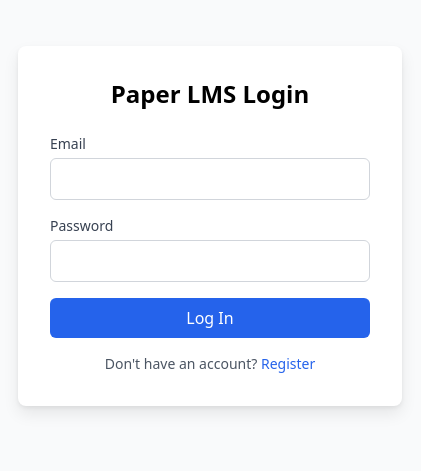
it: LoginPage › error clears when toggling between login and register
This screenshot has width=421, height=471.
Type "bad@example.com" into the field at (210, 179), box [50,158,370,200]
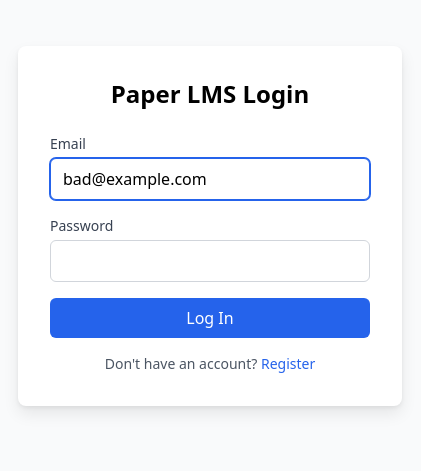
Type "wrong" into the password field at (210, 261), box [50,240,370,282]
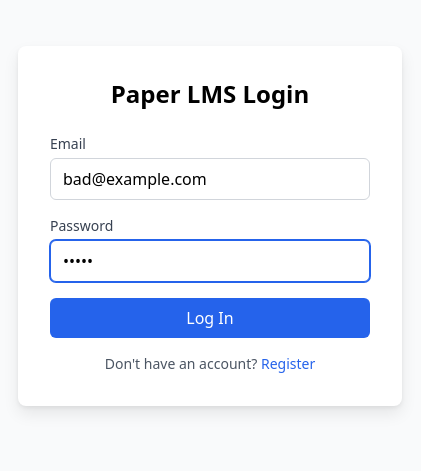
Click the button "Log In" at (210, 318), box [50,298,370,338]
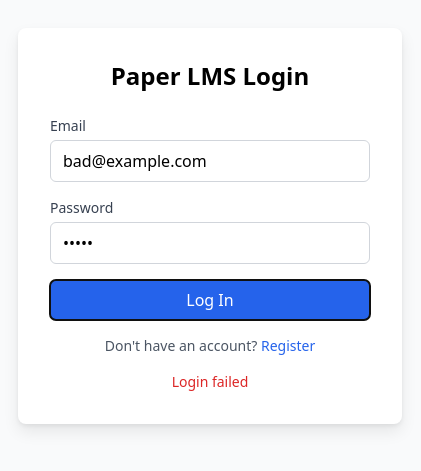
Check: the text "Login failed" is shown, box [172,372,248,391]
Click the button "Register" at (288, 346), box [261,336,315,356]
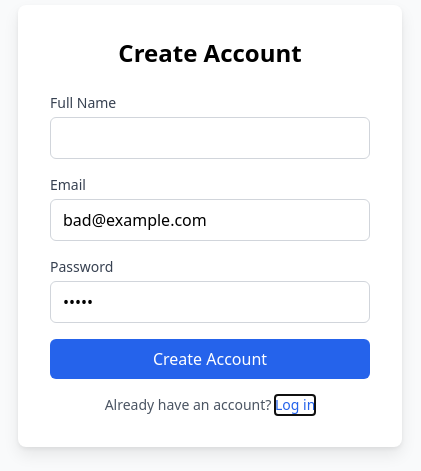
Check: the text "Login failed" is gone
